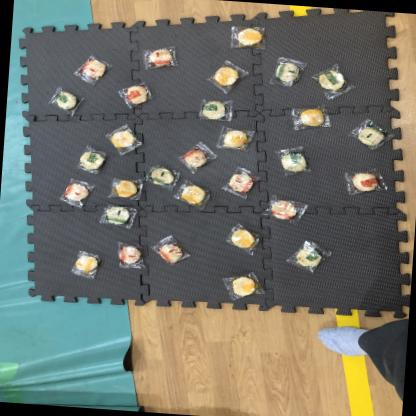green_setoshio: (310, 64, 354, 101), (94, 200, 138, 232), (288, 241, 328, 274), (274, 146, 312, 178), (352, 119, 389, 150), (197, 96, 236, 124), (144, 161, 180, 190), (270, 57, 302, 88), (46, 87, 81, 115), (75, 146, 107, 174)
red_setoshio: (112, 237, 148, 272), (56, 177, 95, 208), (344, 168, 387, 196), (115, 80, 154, 110), (178, 142, 214, 172), (75, 54, 108, 86), (152, 237, 188, 266), (224, 168, 258, 198), (142, 46, 180, 72), (266, 197, 303, 223)
yellow_setoshio: (222, 269, 262, 302), (205, 61, 246, 90), (230, 22, 267, 53), (70, 248, 104, 280), (106, 124, 141, 155), (224, 225, 262, 253), (292, 104, 329, 132), (175, 181, 210, 210), (106, 176, 144, 202), (217, 126, 252, 152)
